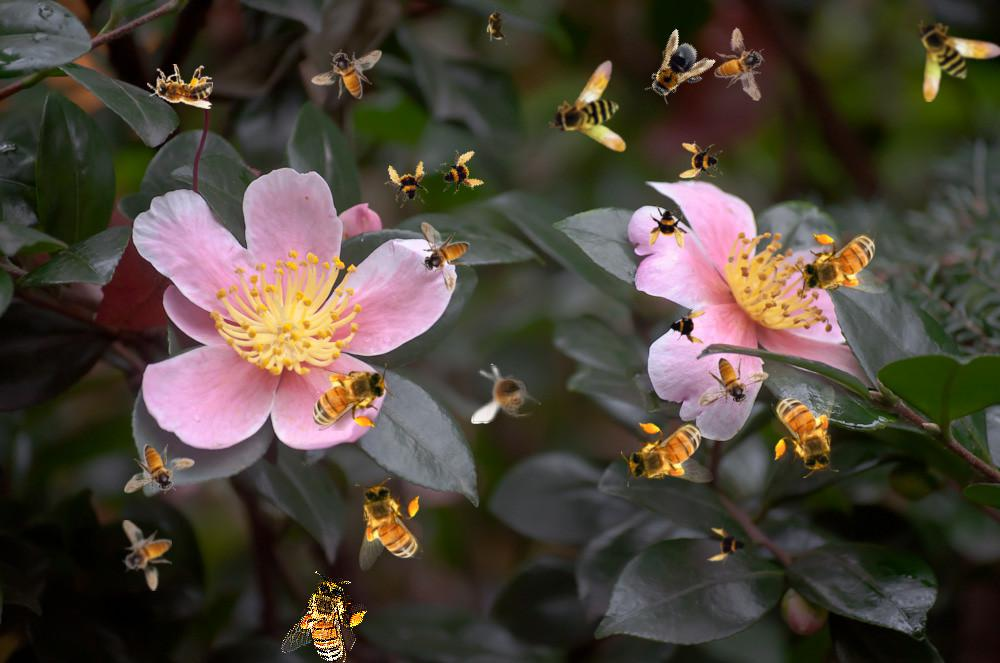Bee: (545, 47, 657, 161), (275, 565, 379, 663), (634, 28, 718, 114), (916, 20, 1000, 102), (795, 230, 888, 298), (621, 419, 714, 487), (300, 363, 393, 431), (355, 478, 423, 571), (771, 385, 839, 478), (711, 25, 769, 102), (471, 363, 541, 424), (698, 357, 769, 407), (311, 49, 382, 99), (124, 444, 195, 494), (122, 520, 172, 591), (420, 222, 470, 293), (430, 143, 488, 201), (147, 64, 213, 109), (380, 157, 434, 211), (679, 141, 723, 185), (707, 525, 751, 569), (664, 303, 708, 347), (647, 205, 691, 249), (486, 5, 508, 45)
